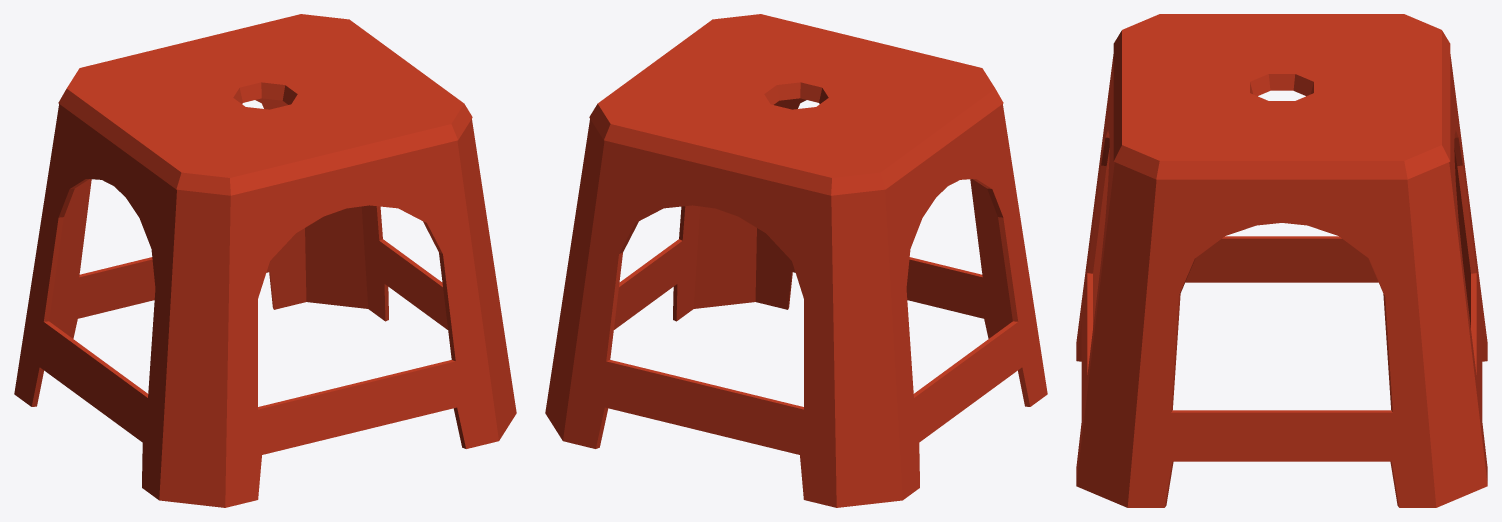
Rendered from SM_Furniture_StoolLow_Red_01.obj.
The picture shows the model from 3 angles, left to right: view 1: azimuth 30°, elevation 25°; view 2: azimuth 150°, elevation 25°; view 3: azimuth 270°, elevation 25°; orthographic projection. The views are drawn at different scales.
Parts seen in each view (by area): view 1: SM_Furniture_StoolLow_Red_01; view 2: SM_Furniture_StoolLow_Red_01; view 3: SM_Furniture_StoolLow_Red_01.
Boxes of the visible parts, x1,y1,x2,y2 form: SM_Furniture_StoolLow_Red_01: (14, 14, 516, 507); SM_Furniture_StoolLow_Red_01: (545, 14, 1047, 507); SM_Furniture_StoolLow_Red_01: (1076, 14, 1487, 507).
Size of the model in its own units: 0.316 by 0.26 by 0.296.
1 material, 1 textured.
